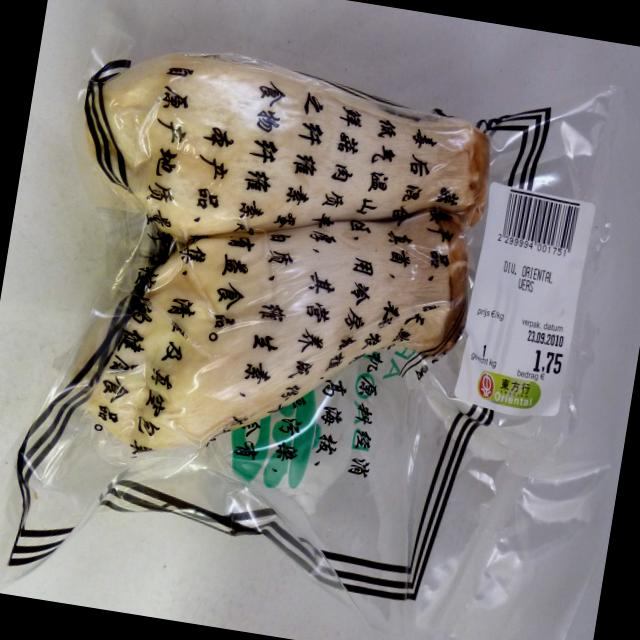Pleurotus eryngii: (51, 147, 482, 494), (80, 64, 493, 282)
